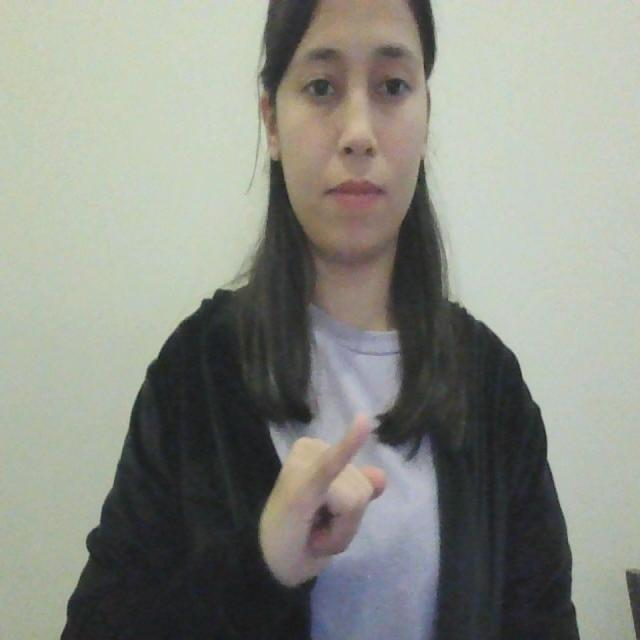kotu: (260, 404, 395, 593)
